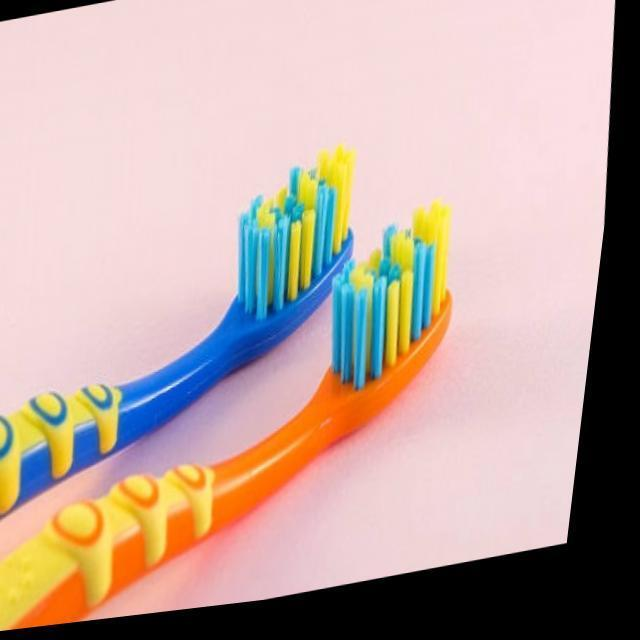toothbrush: (0, 0, 634, 91), (0, 0, 528, 30)
